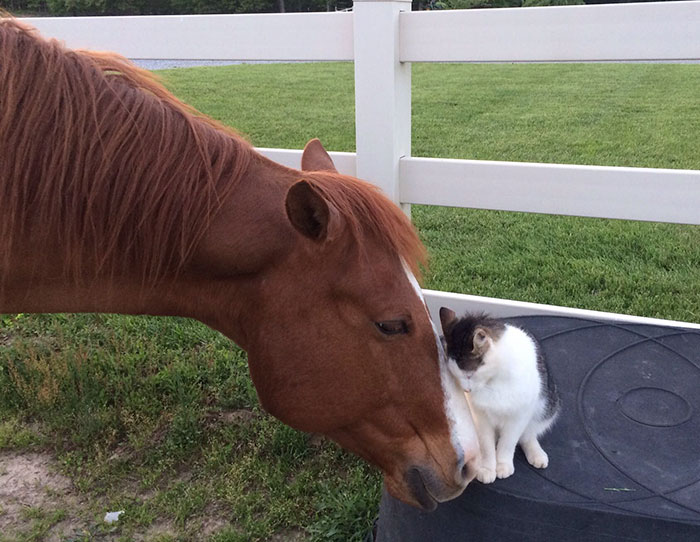Cat: (438, 293, 565, 489)
Horse: (4, 1, 467, 515)
